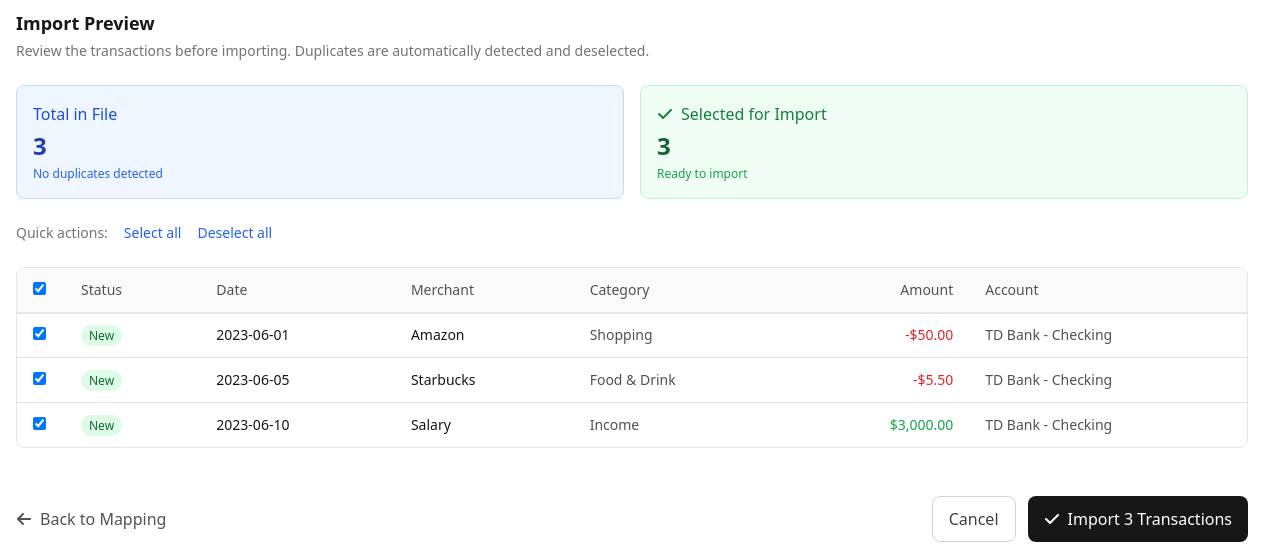
Test: ImportPreviewStep › Selection Controls › toggles individual transaction selection
Expected: the text "Amazon" is shown, [395,312,574,358]
Click the checkbox in the row of "2023-06-01": (40, 334) [33,327,46,340]
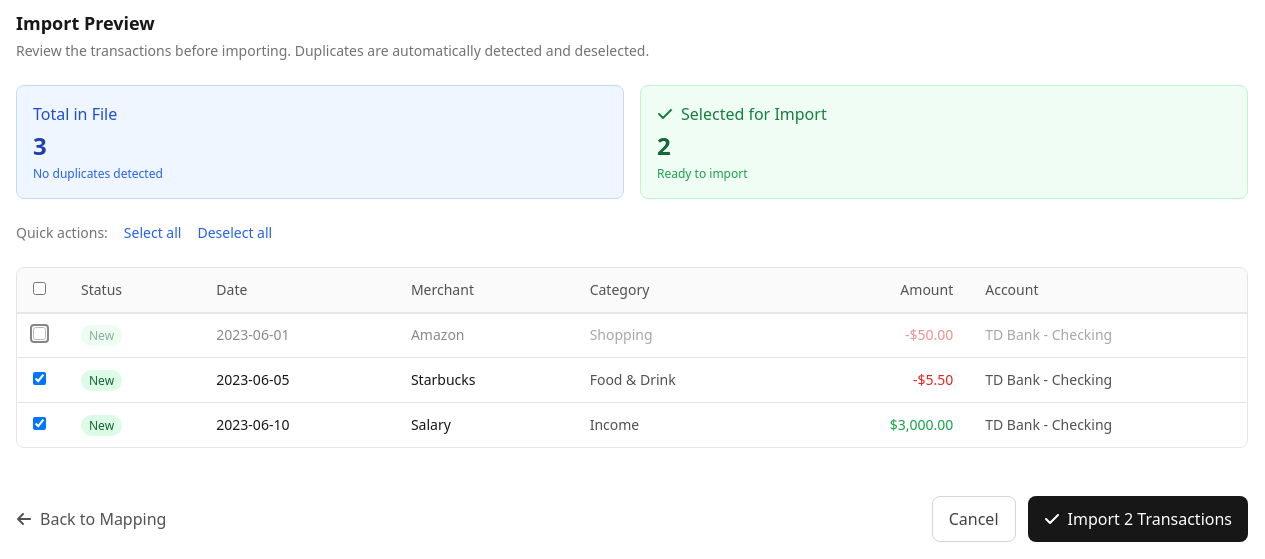
Now the button "Import 2 Transactions" is shown, box [1028,496,1248,542]
